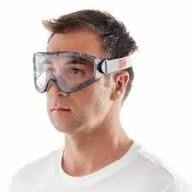safety_goggles: (13, 42, 147, 99)
